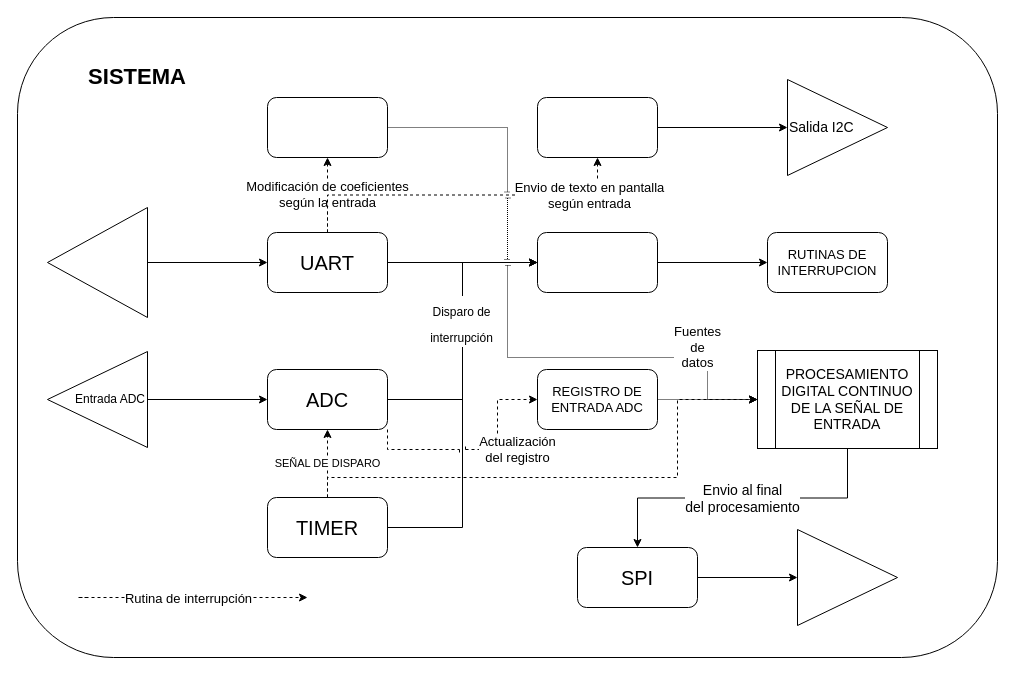
Some shapes in this 1015 by 675 pixel diagram are drawn without their labels. The shapes that lost their labels are listed below. From the top down, each one's box as (x1, y1, x2, y2) in pixels, then its label:
(266, 96, 388, 158): REGISTRO DE COEFICIENTES DEL FILTRO
(536, 96, 658, 158): I2C
(46, 206, 148, 318): Entrada Bluetooth - UART
(536, 232, 658, 292): NVIC
(796, 528, 898, 626): Salida SPI
